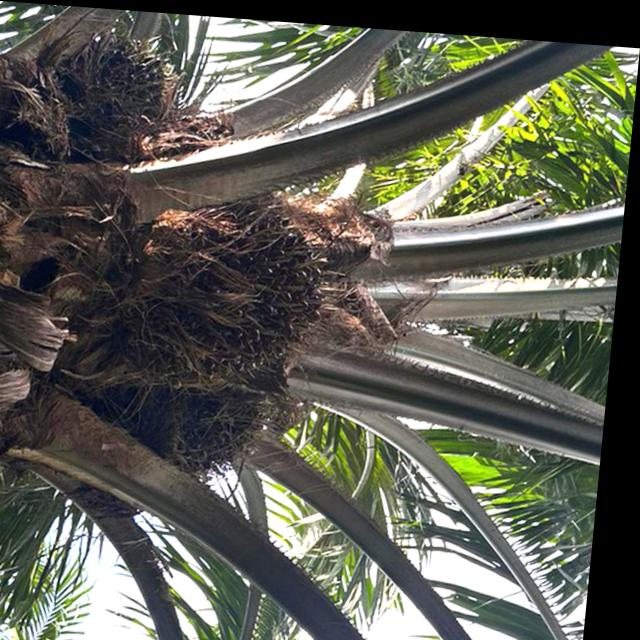unripe: (99, 166, 361, 408), (106, 343, 312, 512), (6, 15, 204, 190)
